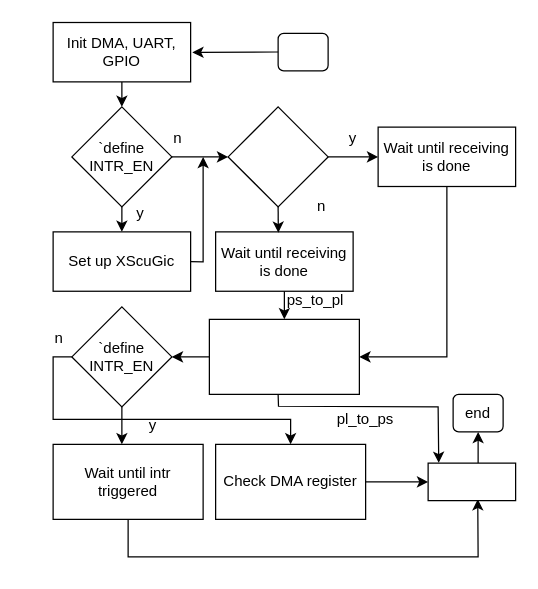
Some shapes in this 538 by 589 pixel diagram are drawn without their labels. Each missing label, with the box of its shape:
`define IMG_UA: (227, 106, 328, 207)
DMA: (208, 318, 359, 394)
Send Histogram: (427, 462, 516, 501)
Start: (277, 32, 328, 71)
